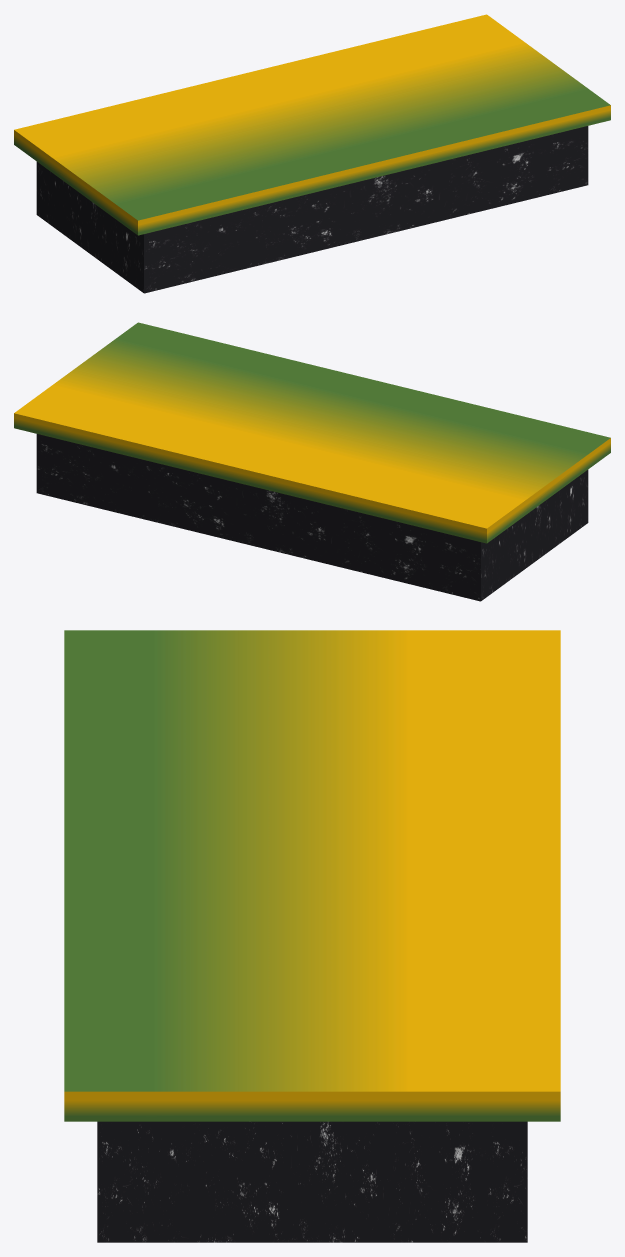
Rendered from drinkdesk.FBX.
3 renders of one model, top to bottom at view 1: azimuth 30°, elevation 25°; view 2: azimuth 150°, elevation 25°; view 3: azimuth 270°, elevation 25°, orthographic. The views are drawn at different scales.
Parts seen in each view (by area): view 1: deskbut, desktop; view 2: deskbut, desktop; view 3: deskbut, desktop.
Part boxes in pixels (x1,y1,x2,y2): deskbut: [14, 14, 610, 235]; desktop: [36, 126, 588, 293]; deskbut: [14, 322, 610, 543]; desktop: [36, 434, 588, 601]; deskbut: [64, 630, 560, 1121]; desktop: [97, 1121, 527, 1242].
Size of the model in its own units: 3.3 by 0.55 by 1.5.
Materials: 2 (2 with a texture image).
